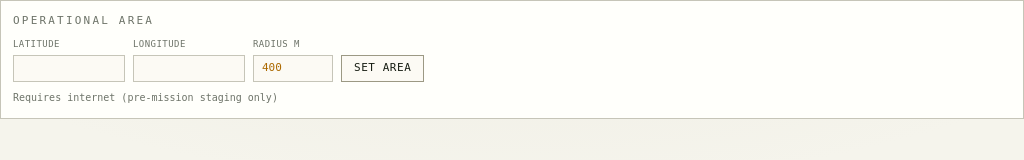
it: OperationalArea › shows an offline error when the fetch returns 503
Type "32.8" into the field labelled "Latitude".
click(69, 68); type("32.8")  # box x1=13 y1=55 x2=125 y2=82
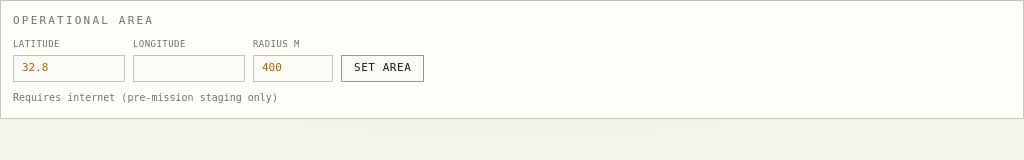
Type "-117.2" into the field labelled "Longitude".
click(189, 68); type("-117.2")  # box x1=133 y1=55 x2=245 y2=82
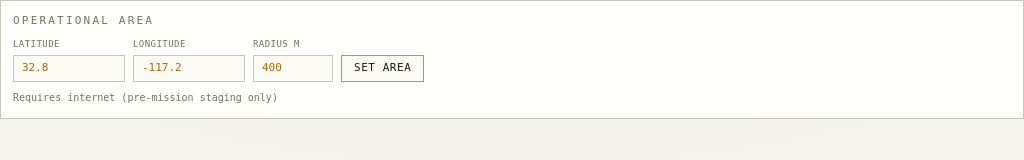
Click the button "Set Area".
click(383, 68)  # box x1=341 y1=55 x2=424 y2=82
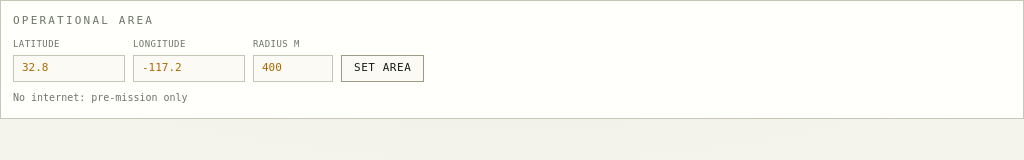
Expected: the text "No internet: pre-mission only" is shown, x1=13 y1=92 x2=188 y2=102
